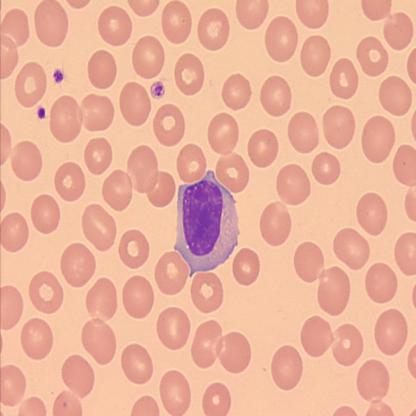Atypical lymphocyte: (174, 168, 240, 276)
